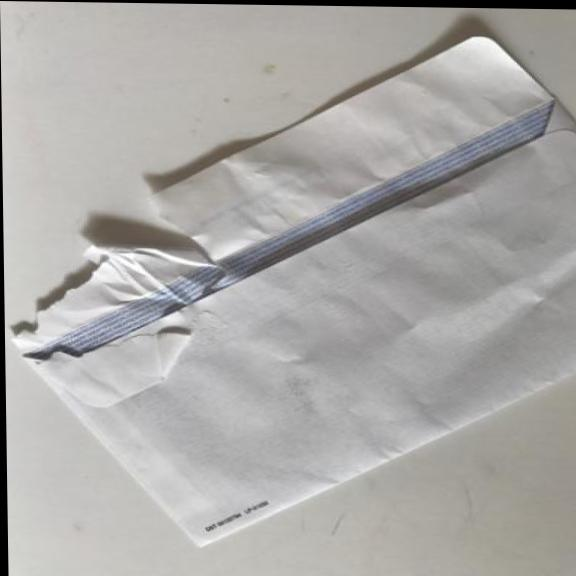Kertas: (0, 22, 576, 559)
